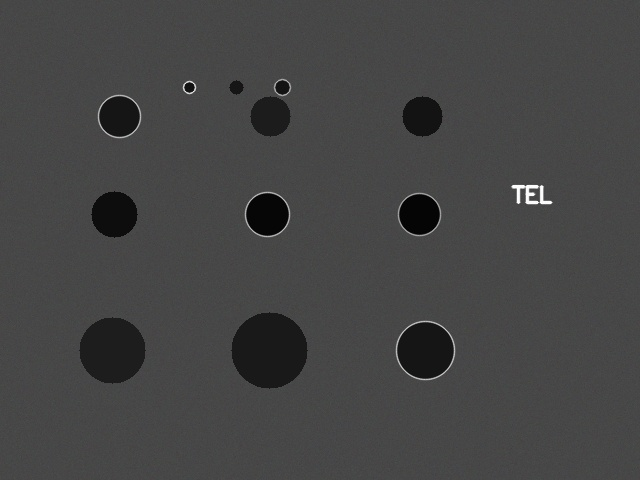hole: (231, 312, 307, 388), (79, 317, 145, 383), (396, 321, 454, 379), (91, 191, 137, 237), (245, 192, 289, 236), (98, 95, 140, 137), (398, 193, 440, 235), (250, 96, 290, 136), (402, 96, 442, 136), (274, 79, 290, 95), (229, 80, 243, 94), (183, 81, 195, 93)
